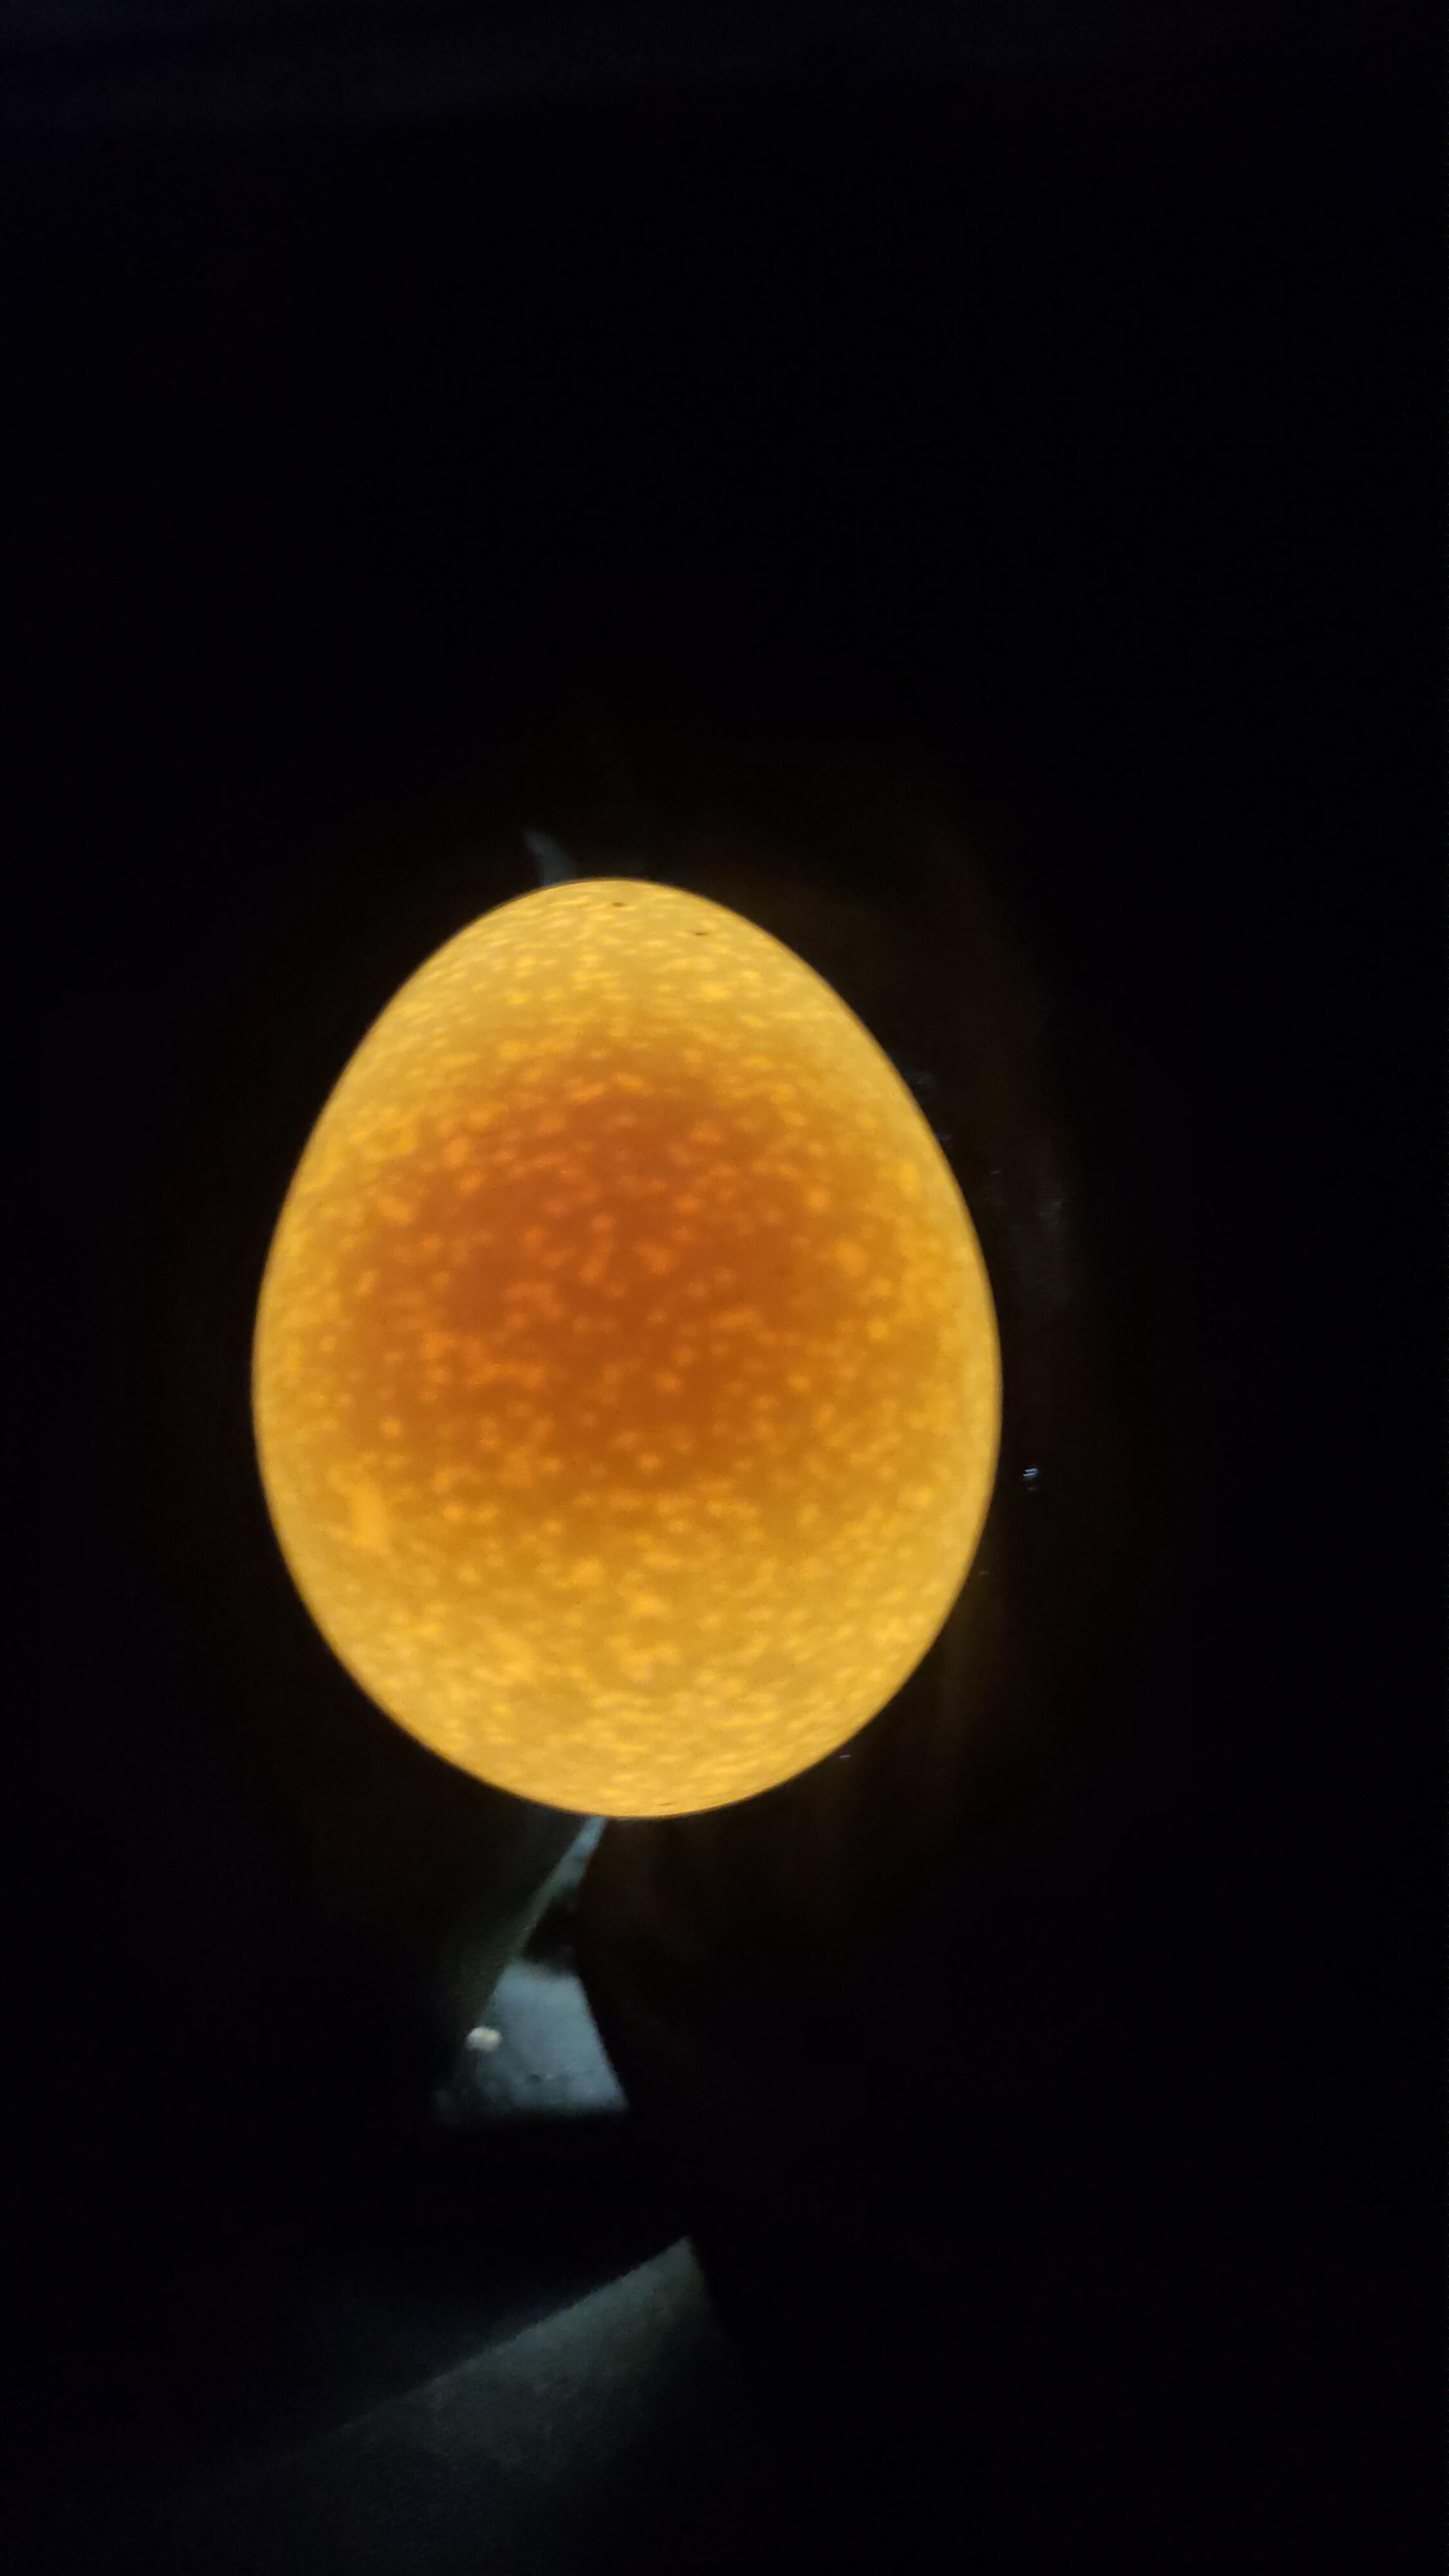A - Good: (225, 832, 1044, 1835)
